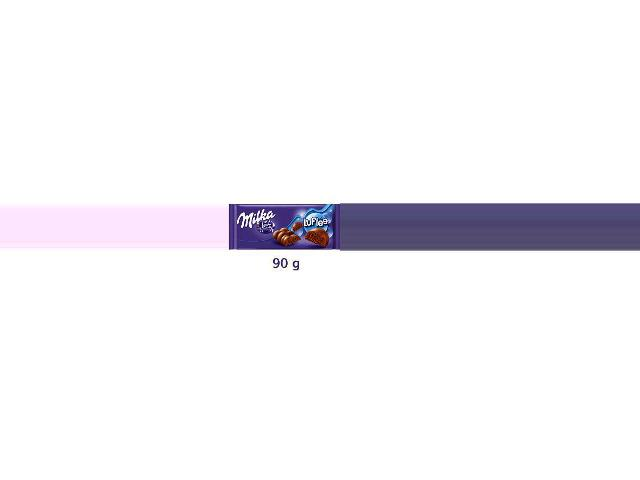chocolate: (231, 203, 340, 249)
